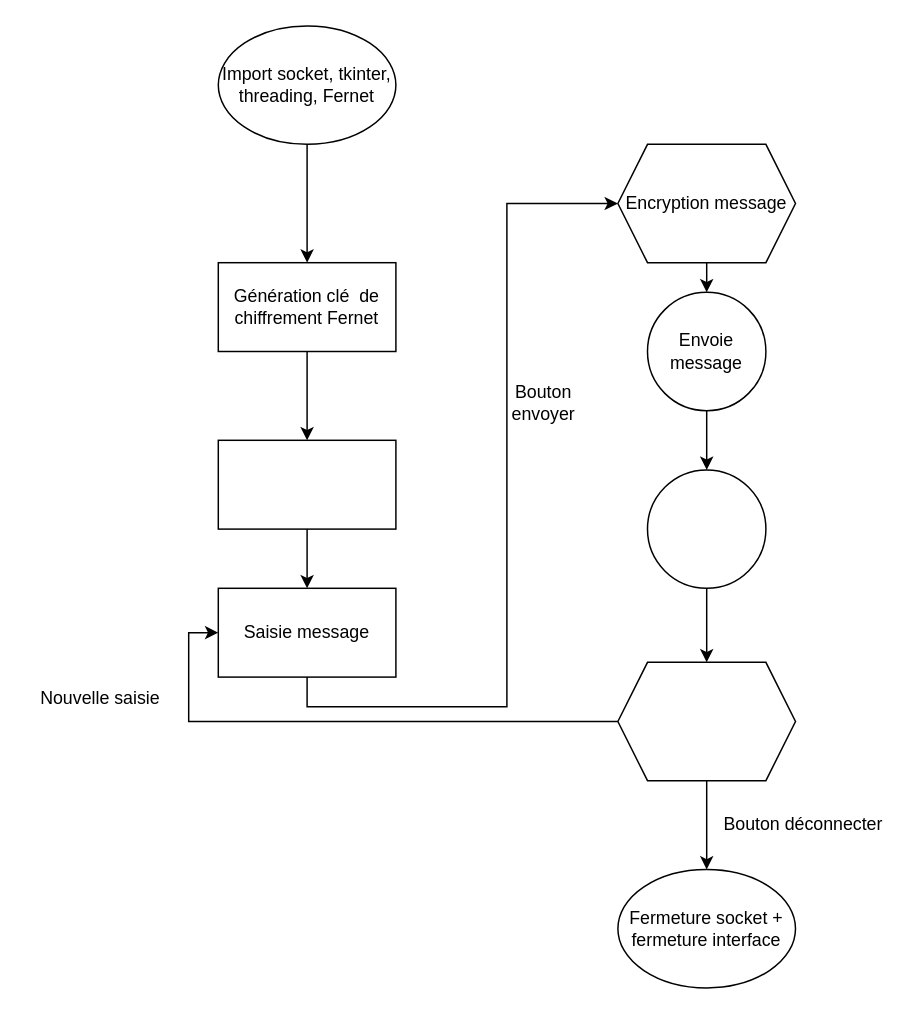
The diagram is 924 pixels wide and 1014 high, and some of its shapes have lost their labels. The shapes that lost their labels are listed below. From the top down, each one's box as (x1, y1, x2, y2) in pixels, then its label:
(217, 439, 396, 529): initialisation socket sur le Broadcast
(646, 468, 766, 588): Reception message
(616, 661, 796, 781): Decryption message +affichage
